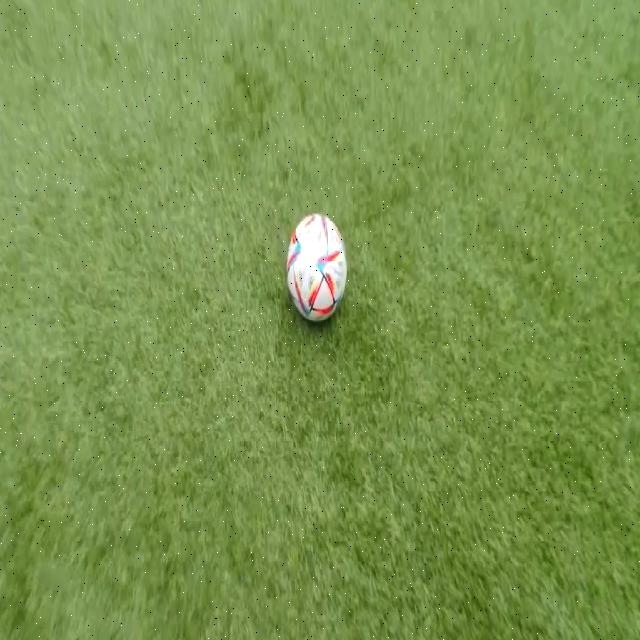ball: (286, 213, 346, 323)
